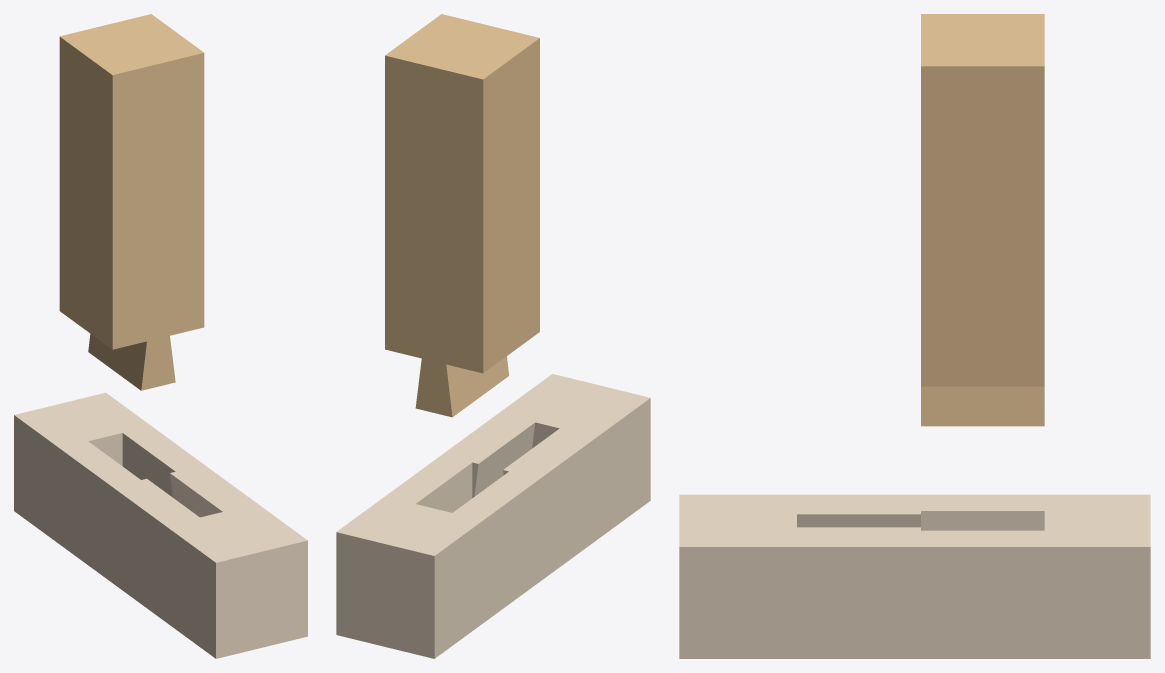
The picture shows the model from 3 angles, left to right: view 1: azimuth 30°, elevation 25°; view 2: azimuth 150°, elevation 25°; view 3: azimuth 270°, elevation 25°; orthographic projection. The views are drawn at different scales.
Bounding box in the file's own units: 0.1249 × 0.66 × 0.4757.
